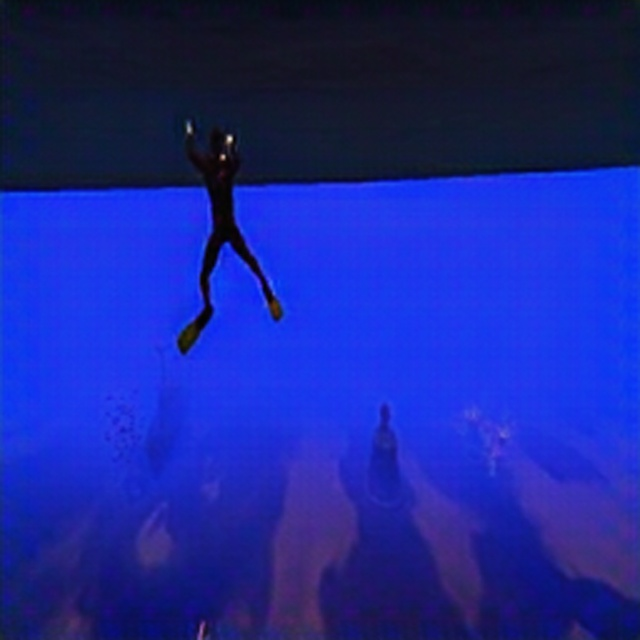diver: (184, 117, 283, 327)
